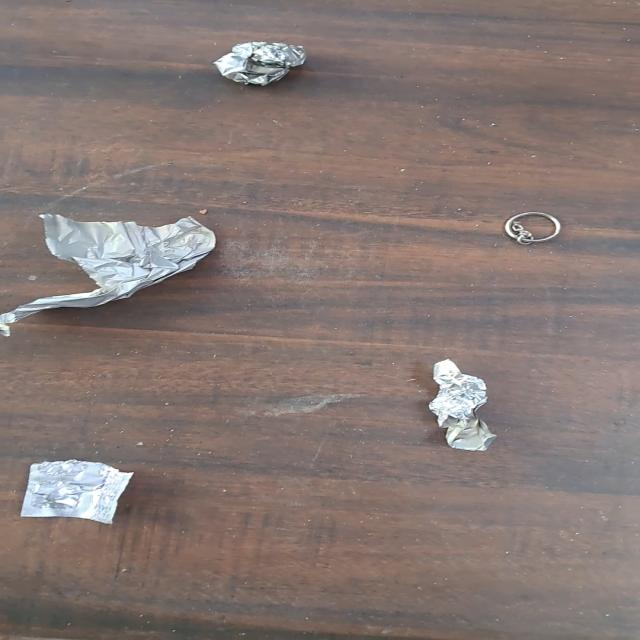Anorganik: (0, 216, 219, 338), (24, 460, 137, 530), (434, 359, 506, 452), (217, 37, 312, 88), (504, 209, 568, 248)
